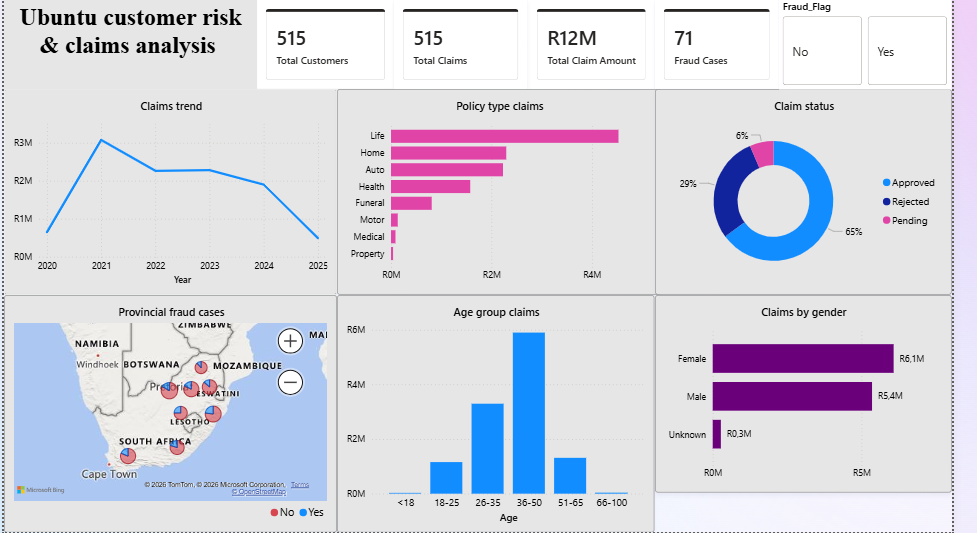

The page's visual inventory and layout, read from the dashboard file:
{"tool":"powerbi","page":{"name":"Page 1","canvas":[1280,720],"ordinal":0},"visuals":[{"type":"cardVisual","fields":{"Data":["CountNonNull(DFA_FINAL_Project___SQL_Data_Cleaning.Customer_ID)"]},"box":[342.1,0,185.2,121],"z":0},{"type":"cardVisual","fields":{"Data":["Sum(DFA_FINAL_Project___SQL_Data_Cleaning.Claim_Amount)"]},"box":[708,0,171.8,121],"z":1000},{"type":"cardVisual","fields":{"Data":["CountNonNull(DFA_FINAL_Project___SQL_Data_Cleaning.claim_id)"]},"box":[527.3,0,180.7,121],"z":2000},{"type":"cardVisual","fields":{"Data":["DFA_FINAL_Project___SQL_Data_Cleaning.fraud cases"]},"box":[879.8,0,167.3,121],"z":3000},{"type":"lineChart","title":"Claims trend","fields":{"Category":["DFA_FINAL_Project___SQL_Data_Cleaning.Join_Date.Variation.Date Hierarchy.Year"],"Y":["Sum(DFA_FINAL_Project___SQL_Data_Cleaning.Claim_Amount)"]},"box":[0,120.9,450.3,277.6],"z":4000},{"type":"clusteredBarChart","title":"Policy type claims","fields":{"Category":["DFA_FINAL_Project___SQL_Data_Cleaning.Policy_Type"],"Y":["Sum(DFA_FINAL_Project___SQL_Data_Cleaning.Claim_Amount)"]},"box":[450.3,120.9,438.4,277.6],"z":5000},{"type":"donutChart","title":"Claim status","fields":{"Category":["DFA_FINAL_Project___SQL_Data_Cleaning.Claim_Status"],"Y":["Sum(DFA_FINAL_Project___SQL_Data_Cleaning.Claim_Amount)"]},"box":[879.4,120.9,401.2,277.6],"z":6000},{"type":"map","title":"Provincial fraud cases","fields":{"Series":["DFA_FINAL_Project___SQL_Data_Cleaning.Fraud_Flag"],"Category":["DFA_FINAL_Project___SQL_Data_Cleaning.Province"],"Size":["Sum(DFA_FINAL_Project___SQL_Data_Cleaning.Claim_Amount)"]},"box":[0,398.5,450.3,321.5],"z":7000},{"type":"advancedSlicerVisual","fields":{"Values":["DFA_FINAL_Project___SQL_Data_Cleaning.Fraud_Flag"]},"box":[1047.1,0,233,121],"z":8000},{"type":"columnChart","title":"Age group claims","fields":{"Category":["DFA_FINAL_Project___SQL_Data_Cleaning.Age Category"],"Y":["Sum(DFA_FINAL_Project___SQL_Data_Cleaning.Claim_Amount)"]},"box":[450.3,398.5,429.1,321.5],"z":9000},{"type":"textbox","box":[0,0,342.1,121],"z":10000},{"type":"clusteredBarChart","title":"Claims by gender","fields":{"Category":["DFA_FINAL_Project___SQL_Data_Cleaning.Gender"],"Y":["Sum(DFA_FINAL_Project___SQL_Data_Cleaning.Claim_Amount)"]},"box":[879.5,399.1,400.5,267],"z":11000}]}

Visuals, with their boxes on the page's 1280x720 design canvas (x1, y1, x2, y2). These are canvas units, not pixel positions in the 977x533 screenshot, which may show the page scaled, cropped or inside an application window:
cardVisual - CountNonNull(DFA_FINAL_Project___SQL_Data_Cleaning.Customer_ID): box=[342, 0, 527, 121]
cardVisual - Sum(DFA_FINAL_Project___SQL_Data_Cleaning.Claim_Amount): box=[708, 0, 880, 121]
cardVisual - CountNonNull(DFA_FINAL_Project___SQL_Data_Cleaning.claim_id): box=[527, 0, 708, 121]
cardVisual - DFA_FINAL_Project___SQL_Data_Cleaning.fraud cases: box=[880, 0, 1047, 121]
"Claims trend" lineChart: box=[0, 121, 450, 398]
"Policy type claims" clusteredBarChart: box=[450, 121, 889, 398]
"Claim status" donutChart: box=[879, 121, 1281, 398]
"Provincial fraud cases" map: box=[0, 398, 450, 720]
advancedSlicerVisual - DFA_FINAL_Project___SQL_Data_Cleaning.Fraud_Flag: box=[1047, 0, 1280, 121]
"Age group claims" columnChart: box=[450, 398, 879, 720]
textbox: box=[0, 0, 342, 121]
"Claims by gender" clusteredBarChart: box=[880, 399, 1280, 666]
